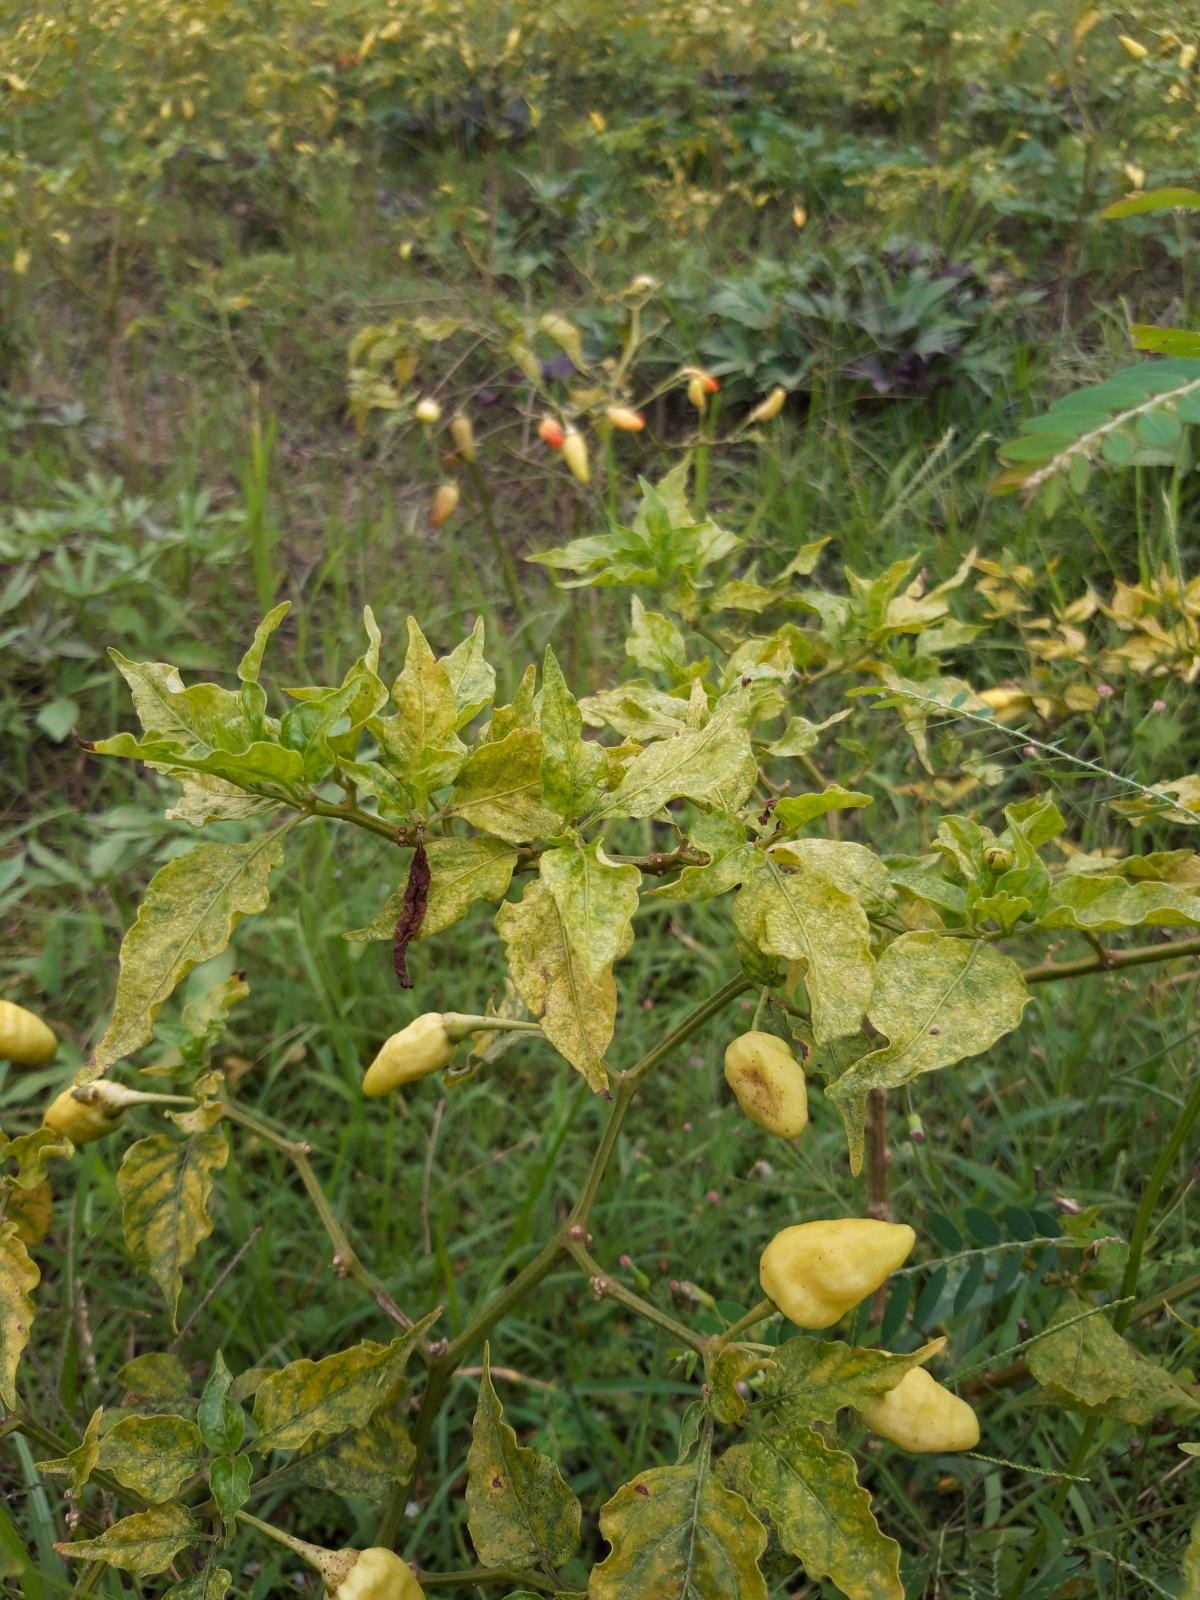cabai_normal: (760, 1218, 916, 1329), (856, 1364, 979, 1454), (363, 1013, 459, 1096), (563, 433, 589, 484), (450, 417, 476, 464), (431, 484, 459, 527), (755, 391, 784, 421), (608, 409, 643, 432), (538, 420, 561, 449), (687, 380, 703, 408)
lalat_buah: (724, 1031, 808, 1141)
